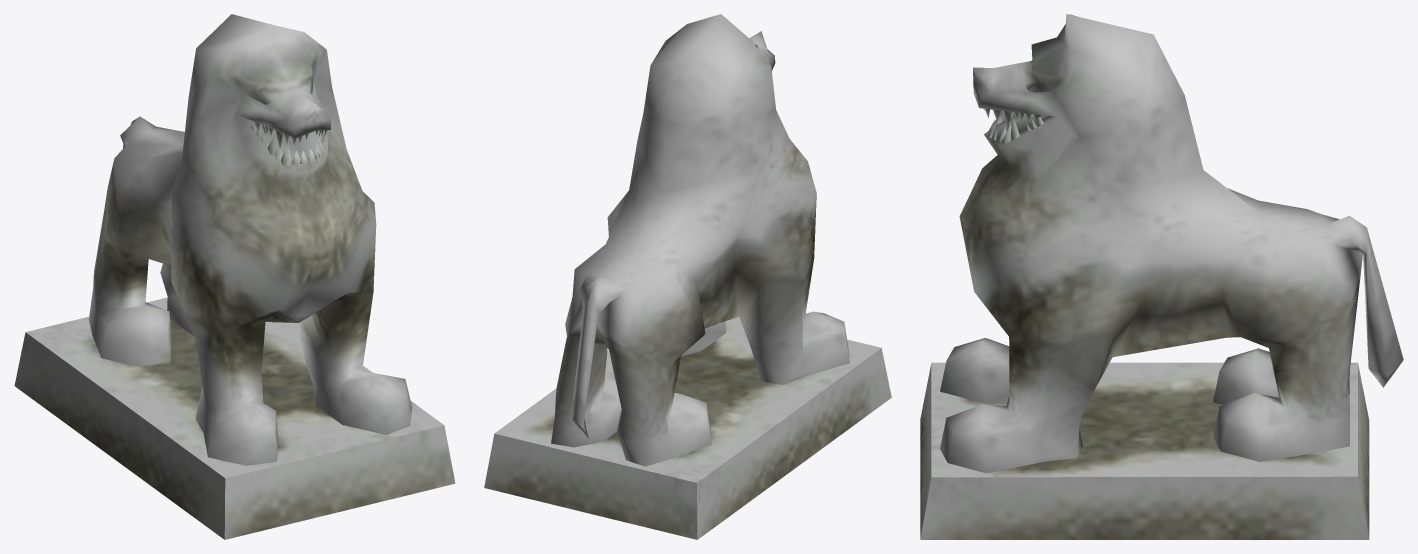
The model's file is general_obj_lionstoneimage.fbx.
3 renders of one model, left to right at view 1: azimuth 30°, elevation 25°; view 2: azimuth 150°, elevation 25°; view 3: azimuth 270°, elevation 25°, orthographic. The views are drawn at different scales.
Visible parts, largest first — view 1: Object19; view 2: Object19; view 3: Object19.
Part boxes in pixels (x1,y1,x2,y2): Object19: (14, 14, 455, 539); Object19: (484, 14, 891, 539); Object19: (920, 14, 1403, 539).
Size of the model in its own units: 2.77 by 5.01 by 4.71.
